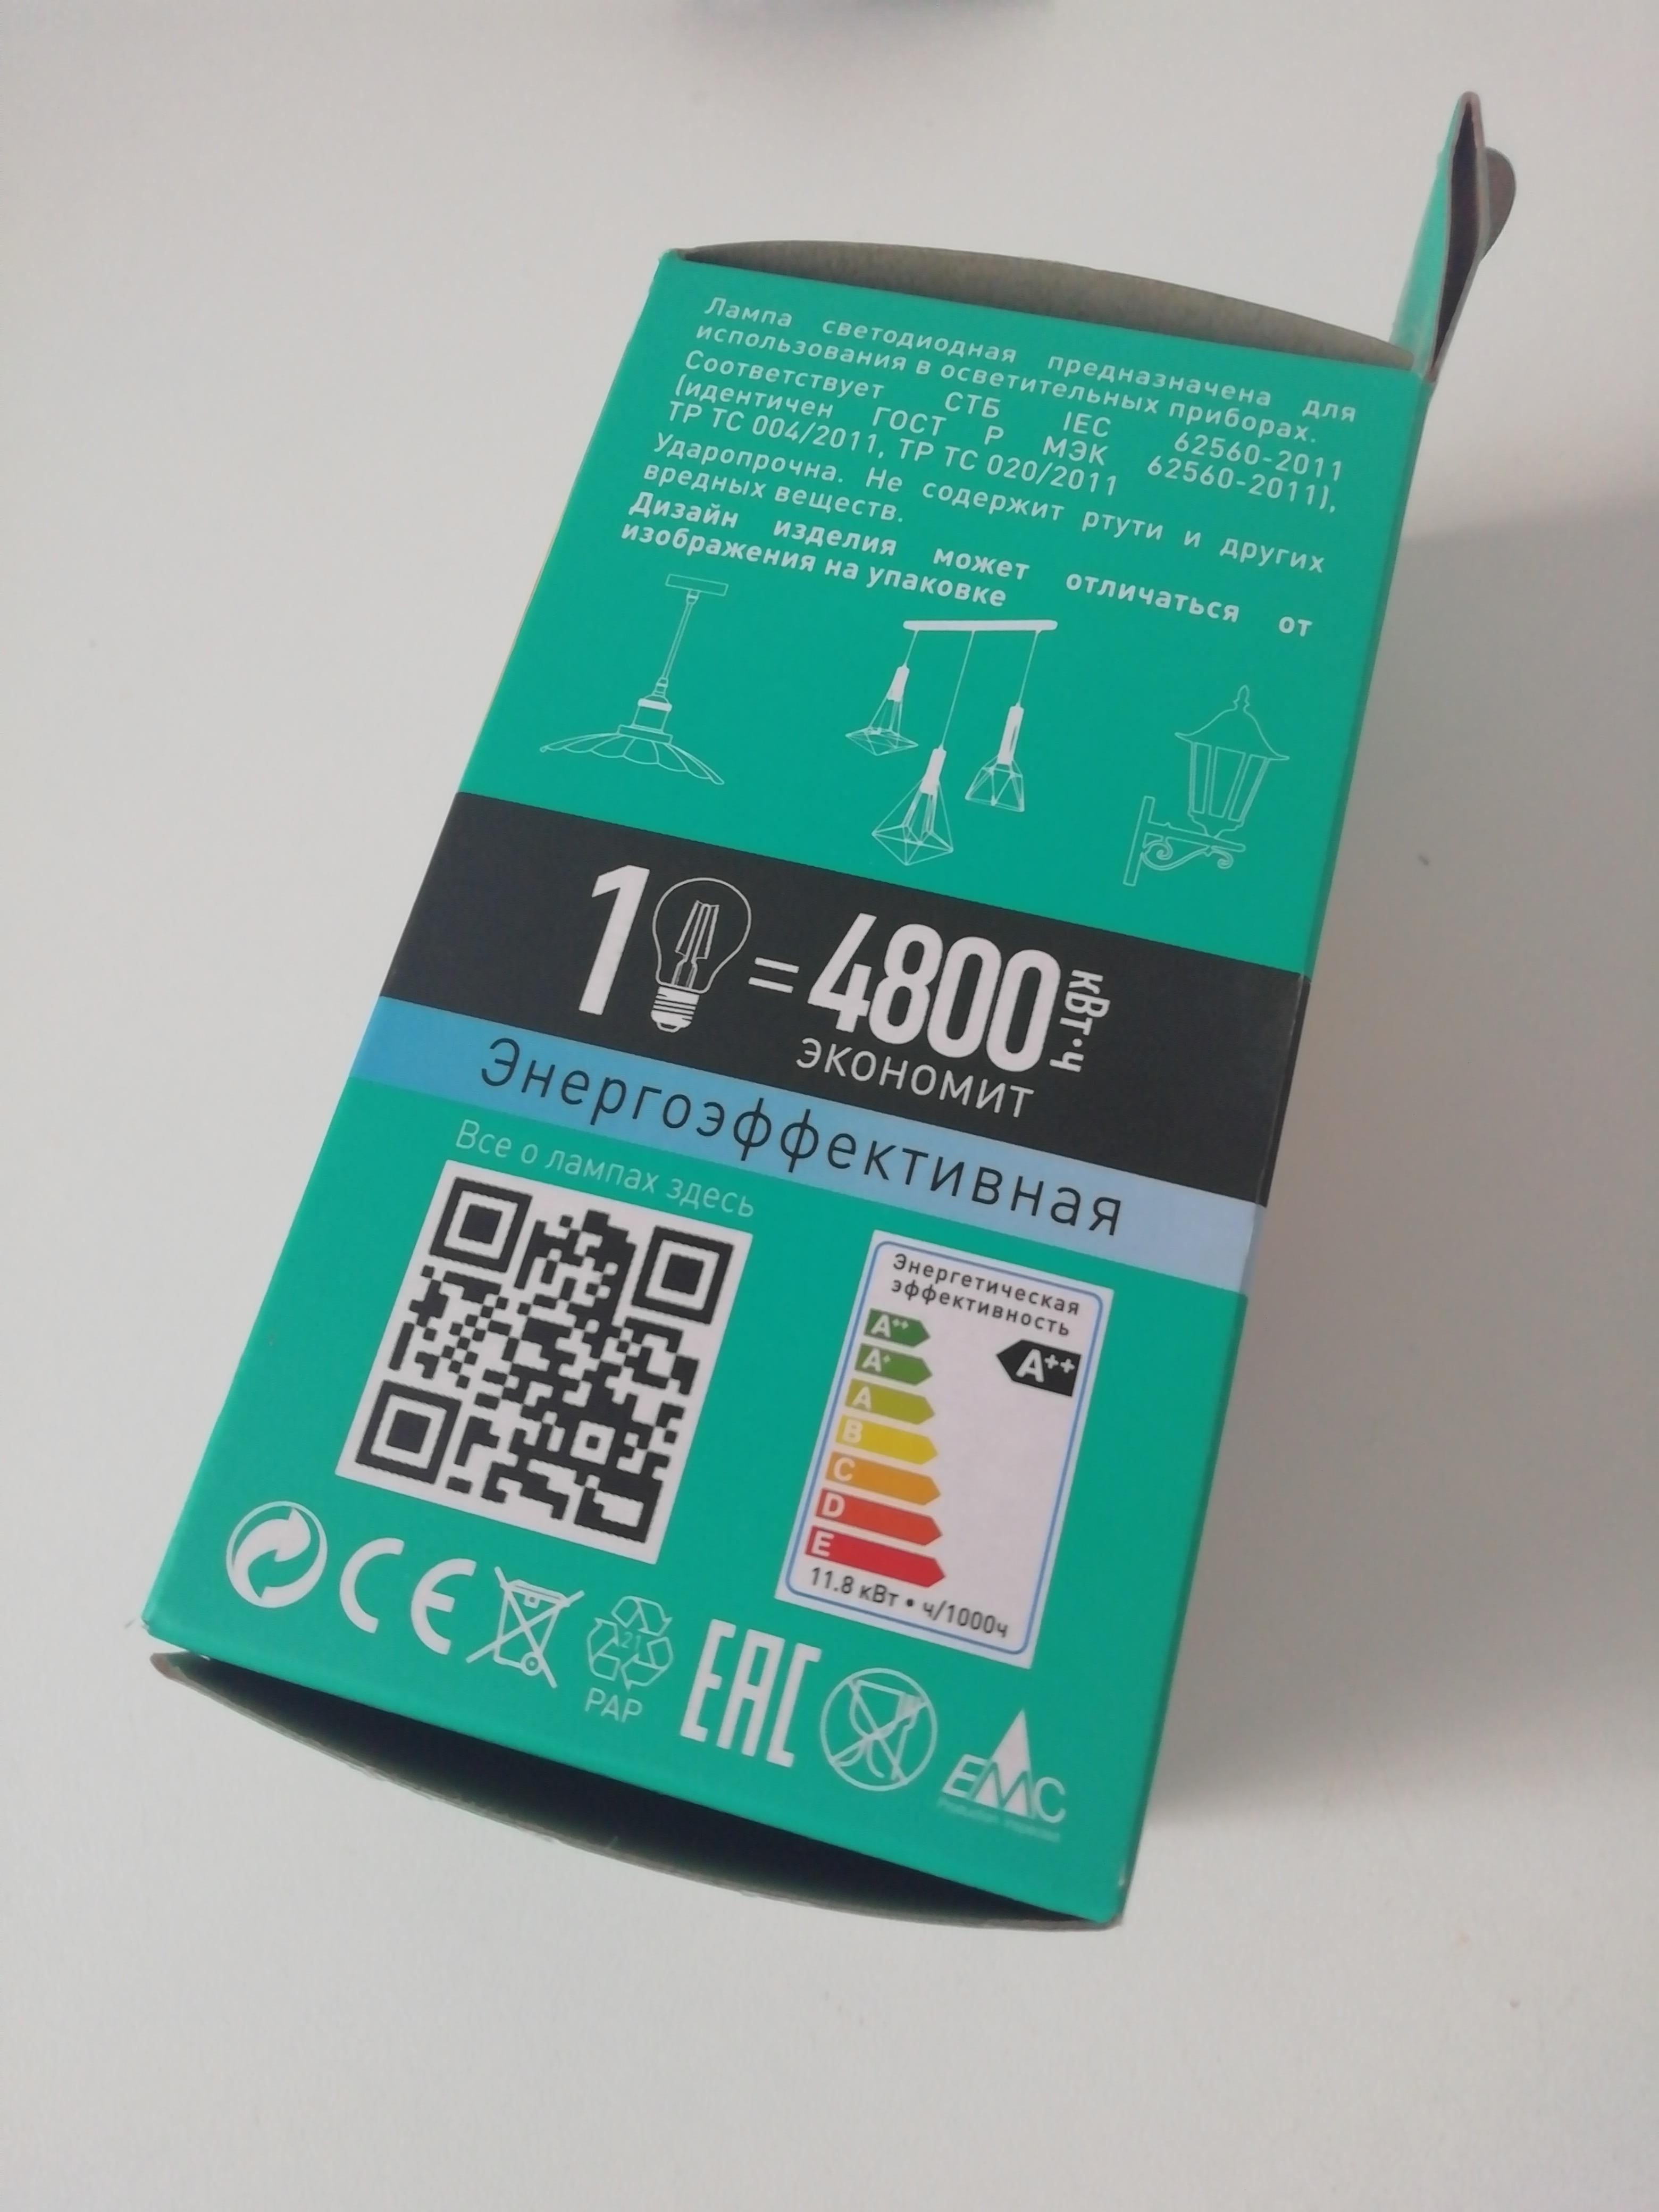qrcode: (359, 1172, 737, 1545)
